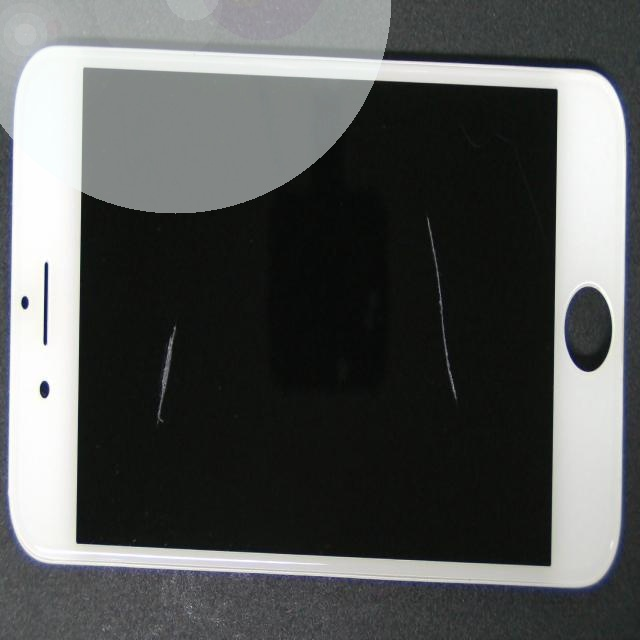scratch: (270, 299, 640, 499), (103, 168, 270, 476)
